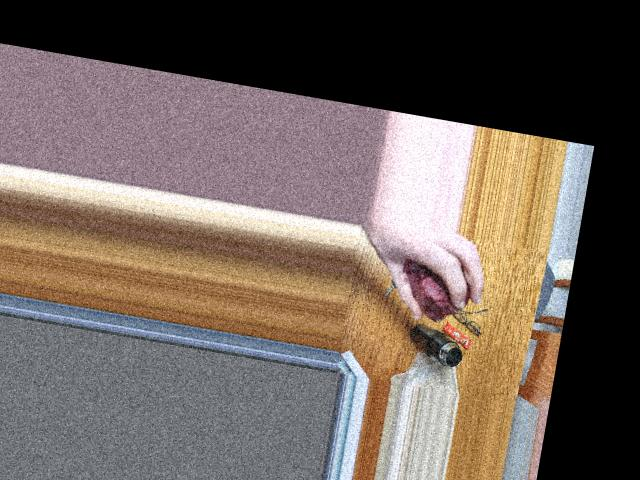onion: (397, 256, 473, 321)
